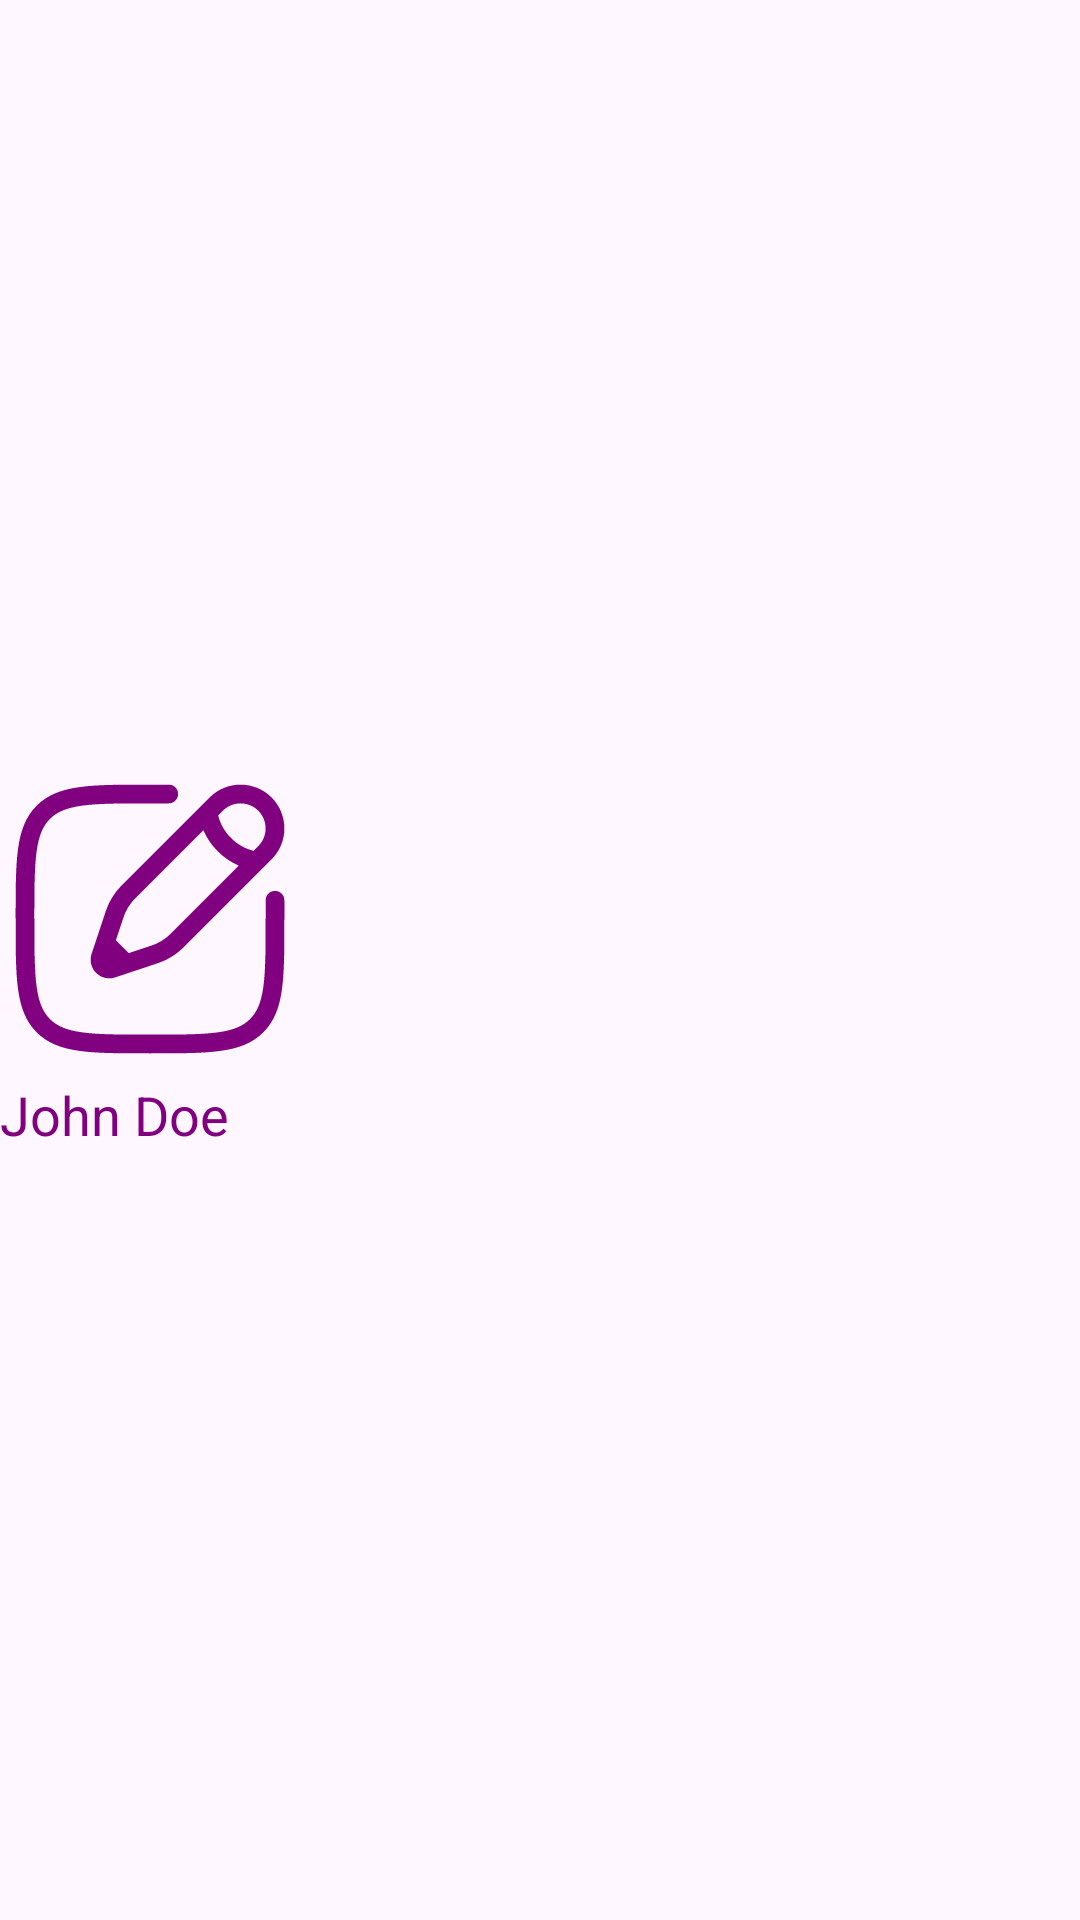

Icons on this 1080*1920 Android screen, each with the point to tap as [x,y]:
pen: [150,919]
